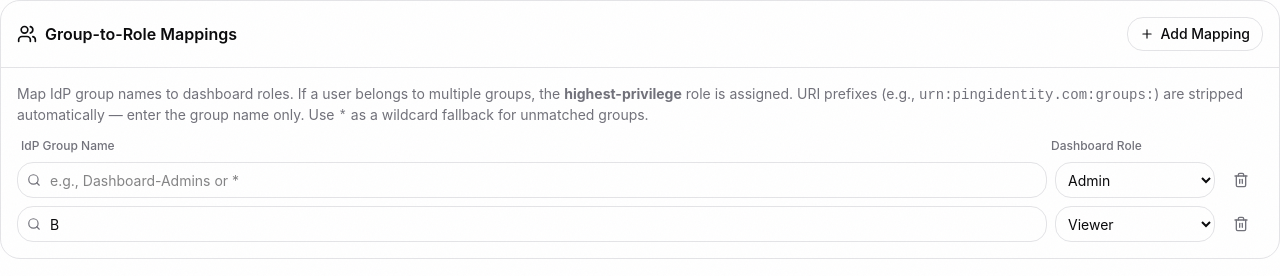
GroupRoleMappingEditor › falls back to existing-rows-only suggestions when discoveredGroups is empty
Focus the dropdown with test id "mapping-group-0" at (532, 180), box x1=17 y1=162 x2=1047 y2=198
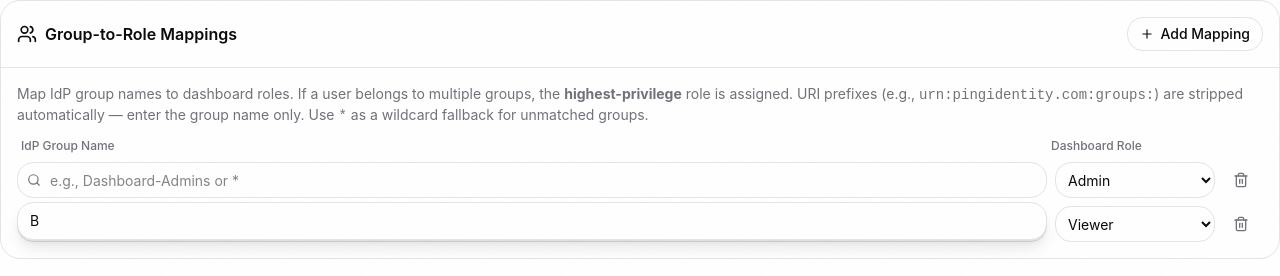
Result: the text "B" is shown at x1=30 y1=212 x2=39 y2=229
